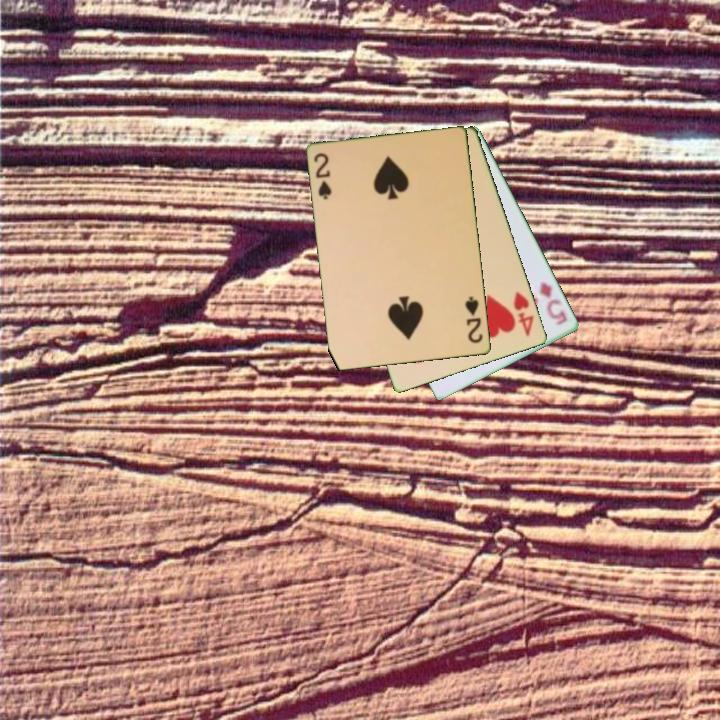2s: (462, 293, 486, 346), (311, 150, 335, 203)
4h: (510, 288, 537, 340)
5d: (536, 278, 570, 329)
